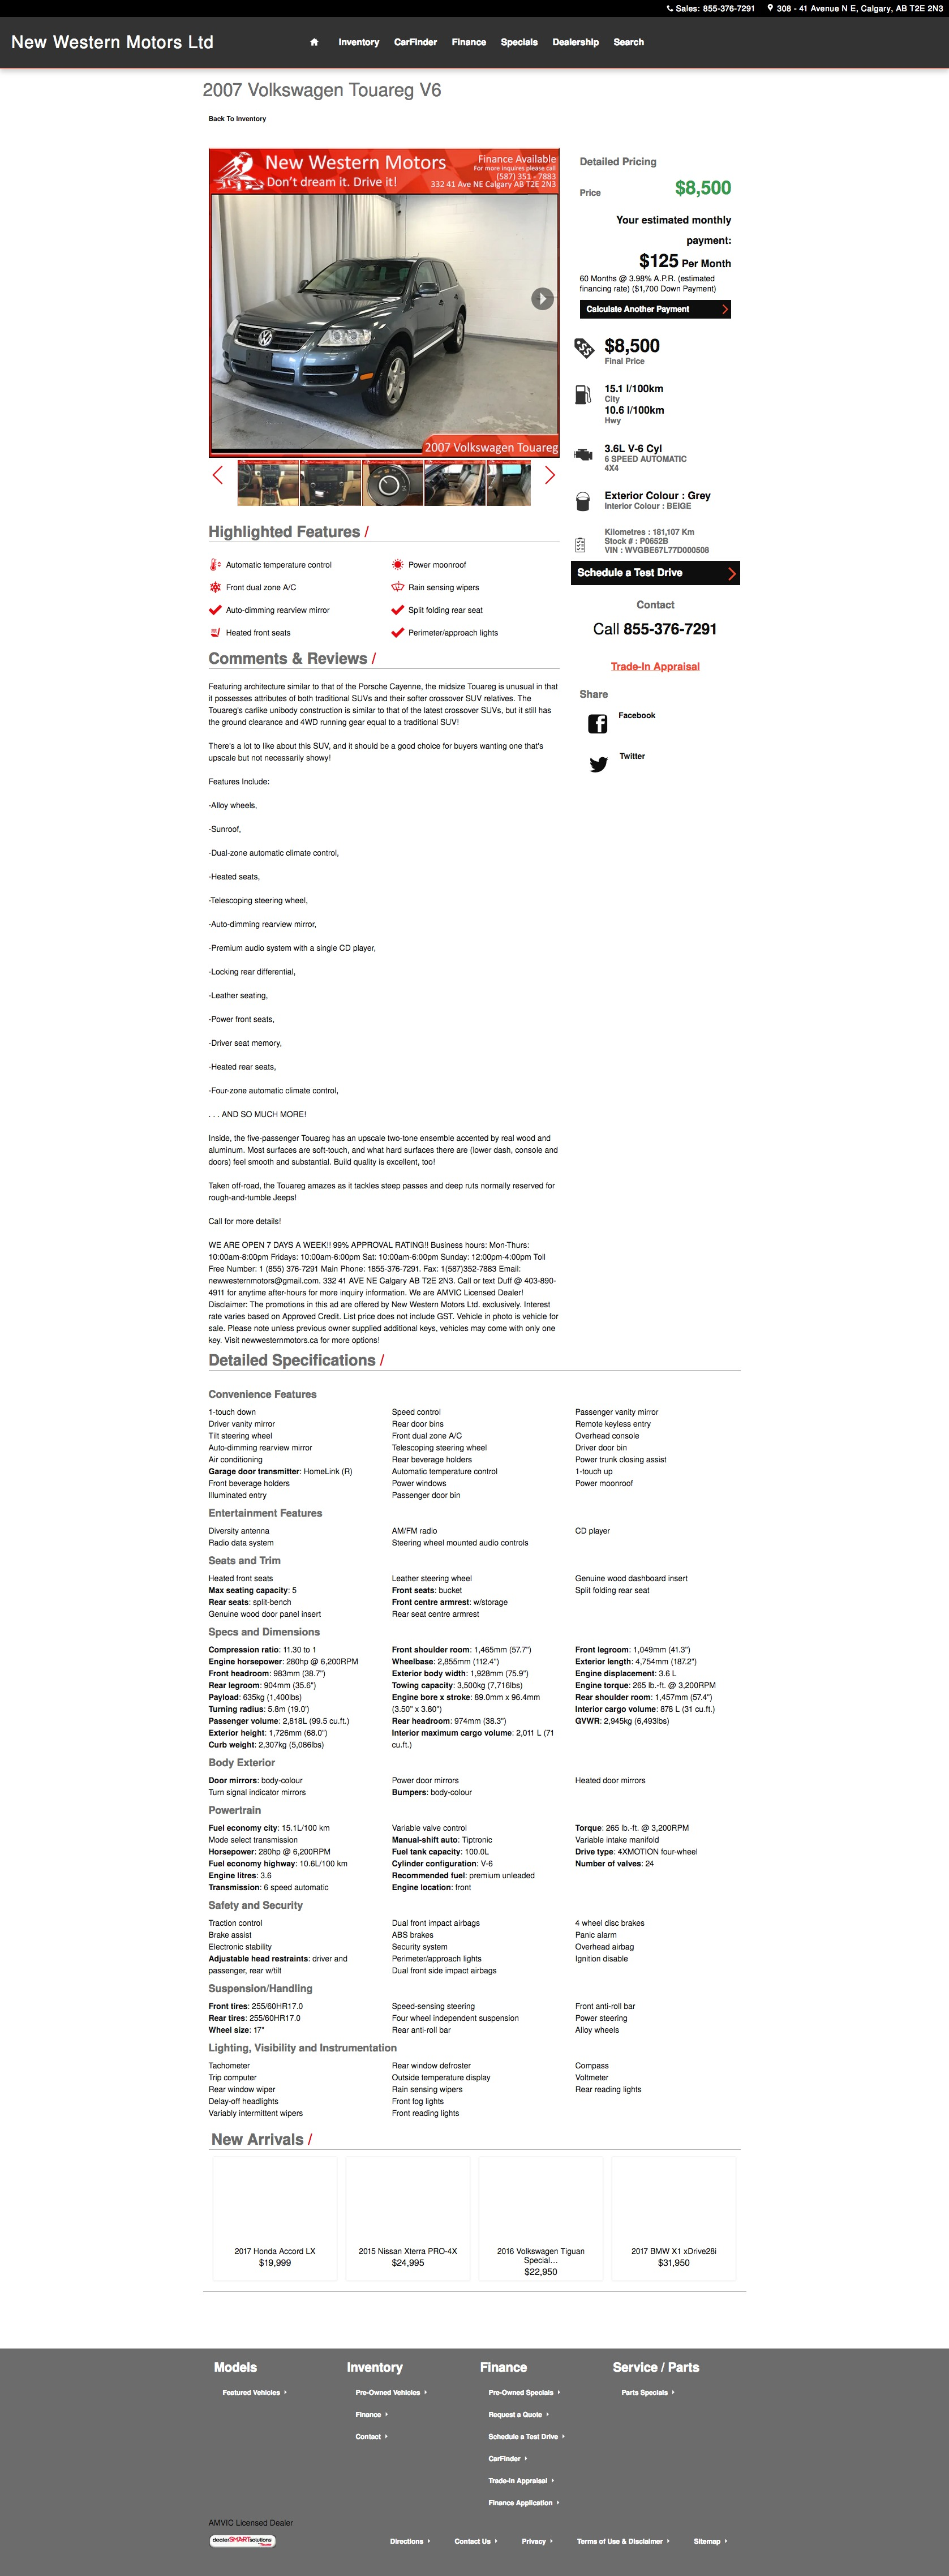car: (545, 465, 557, 485)
